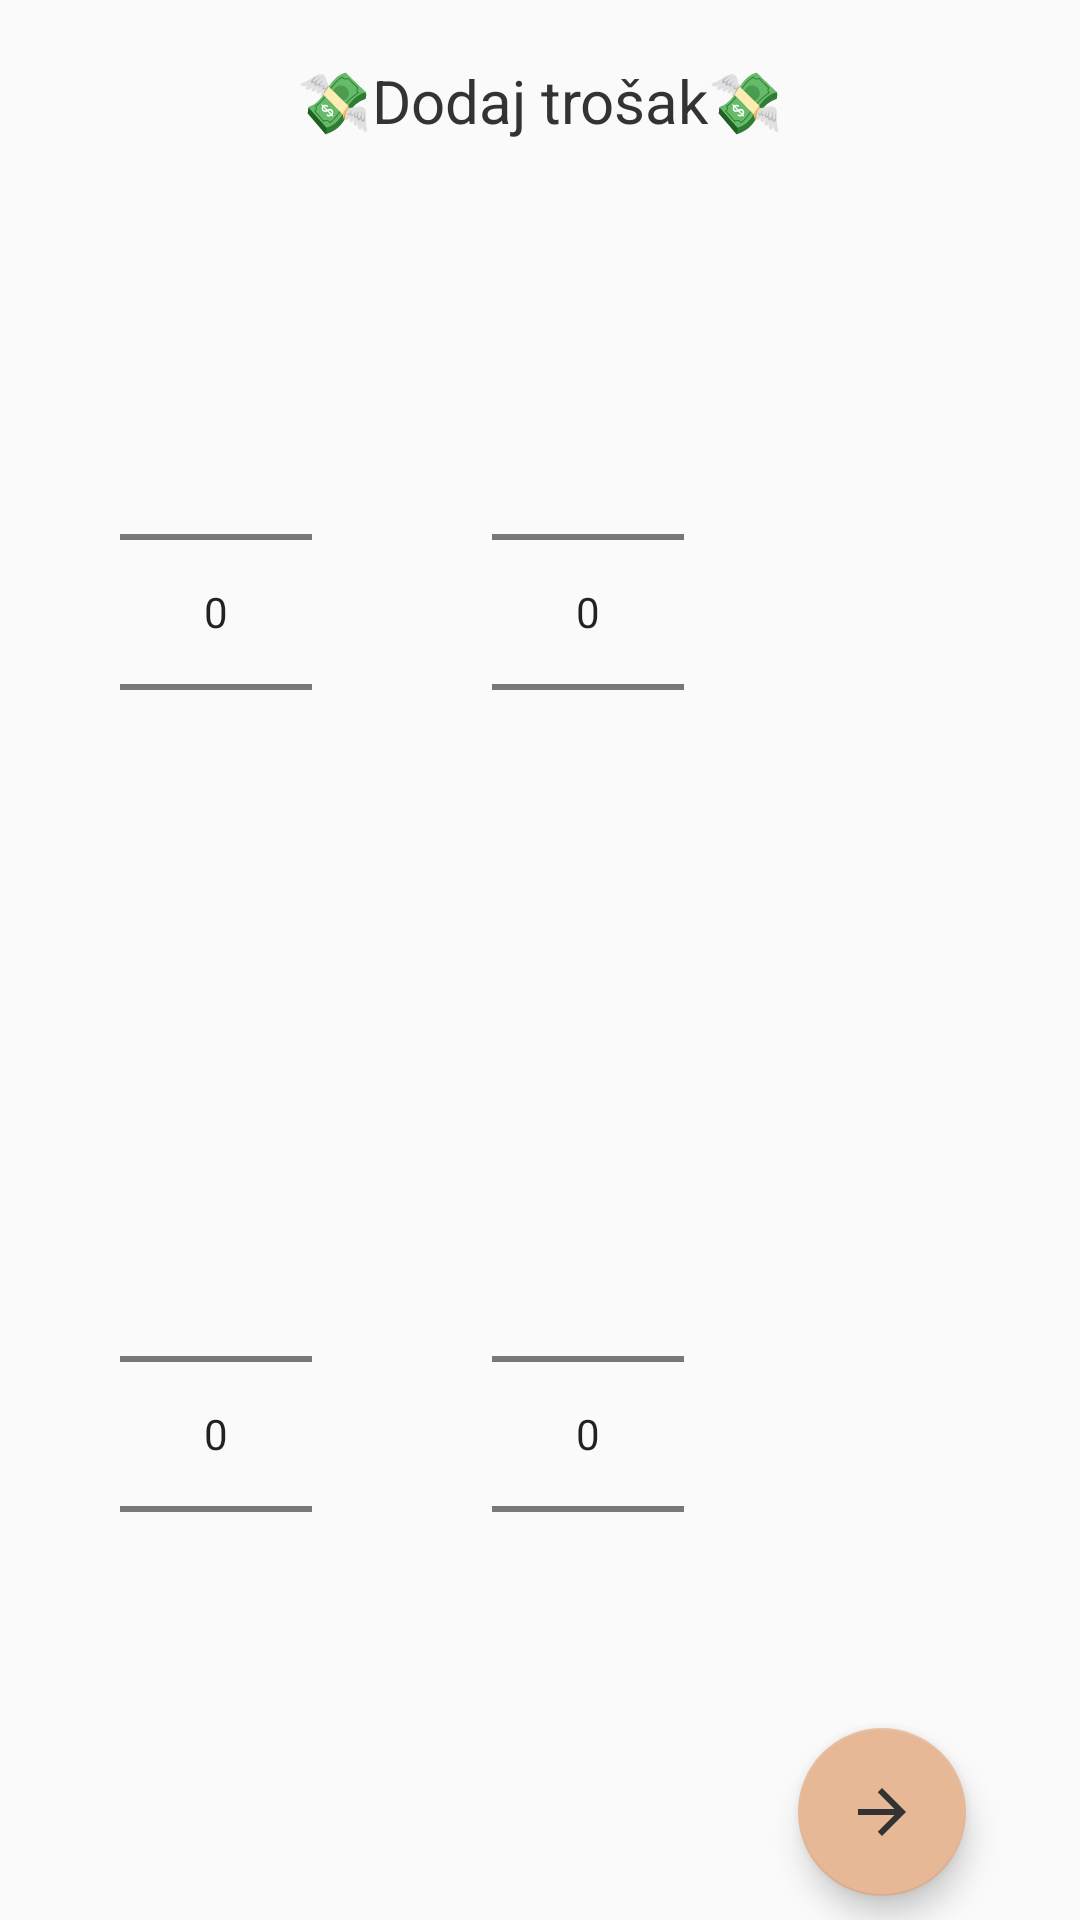

Icons on this 1080px×1920px Android screen, each with its box as (x1, y1, x2, y2):
arrow forward: (798, 1728, 966, 1896)
